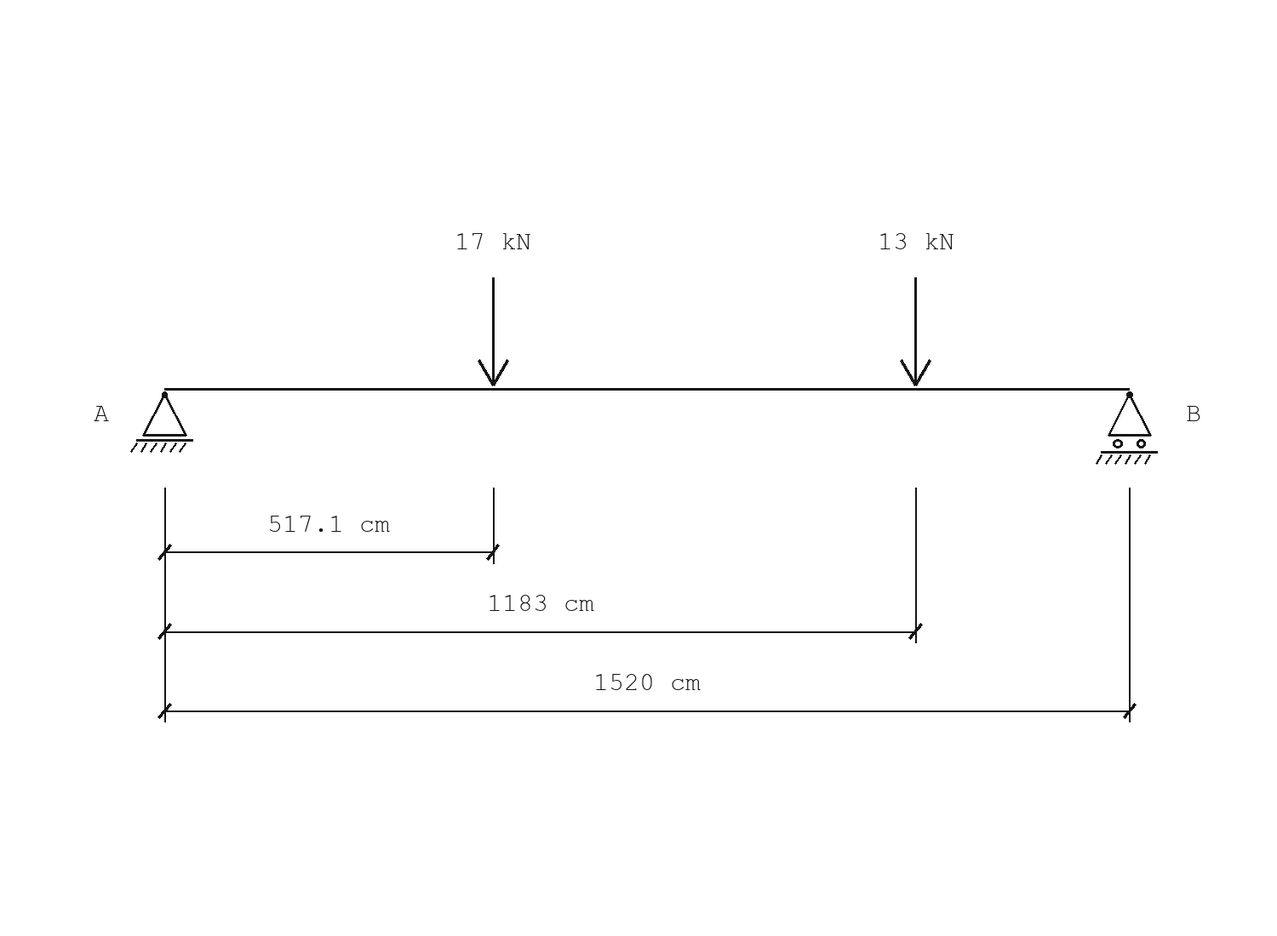pin_support: (130, 391, 193, 453)
point_load: (478, 277, 509, 386), (900, 277, 931, 386)
roller_support: (1096, 391, 1158, 465)
